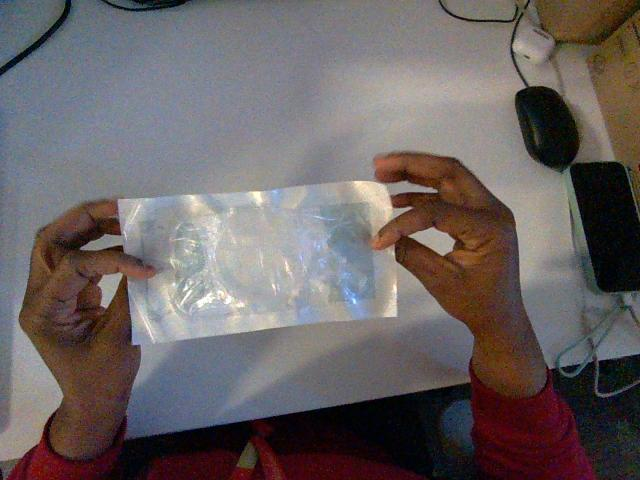gallipot: (118, 181, 396, 343)
